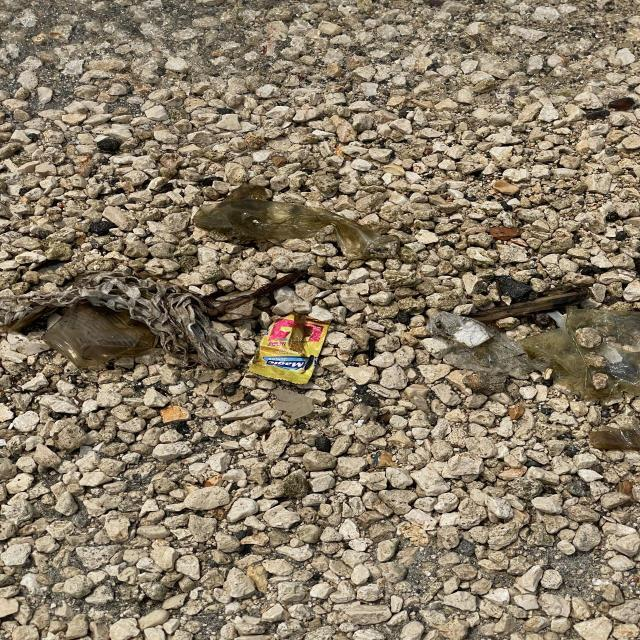plastic_waste: (244, 316, 332, 386)
